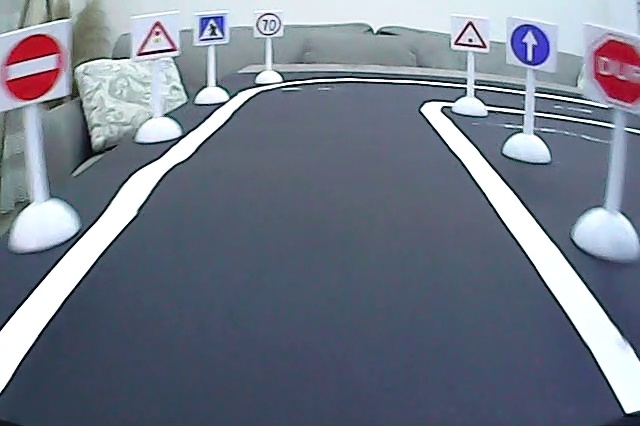do not enter: (1, 30, 68, 107)
green light: (453, 19, 489, 54)
pedestrian crossing: (198, 13, 227, 44)
red light: (134, 16, 180, 58)
speed limit 70: (256, 12, 283, 38)
stop sign: (588, 30, 640, 110)
